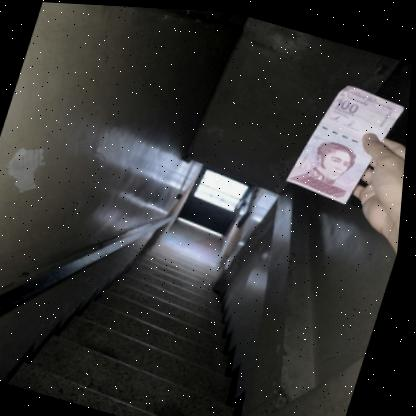one_hundred-front-vef: (284, 70, 411, 209)
